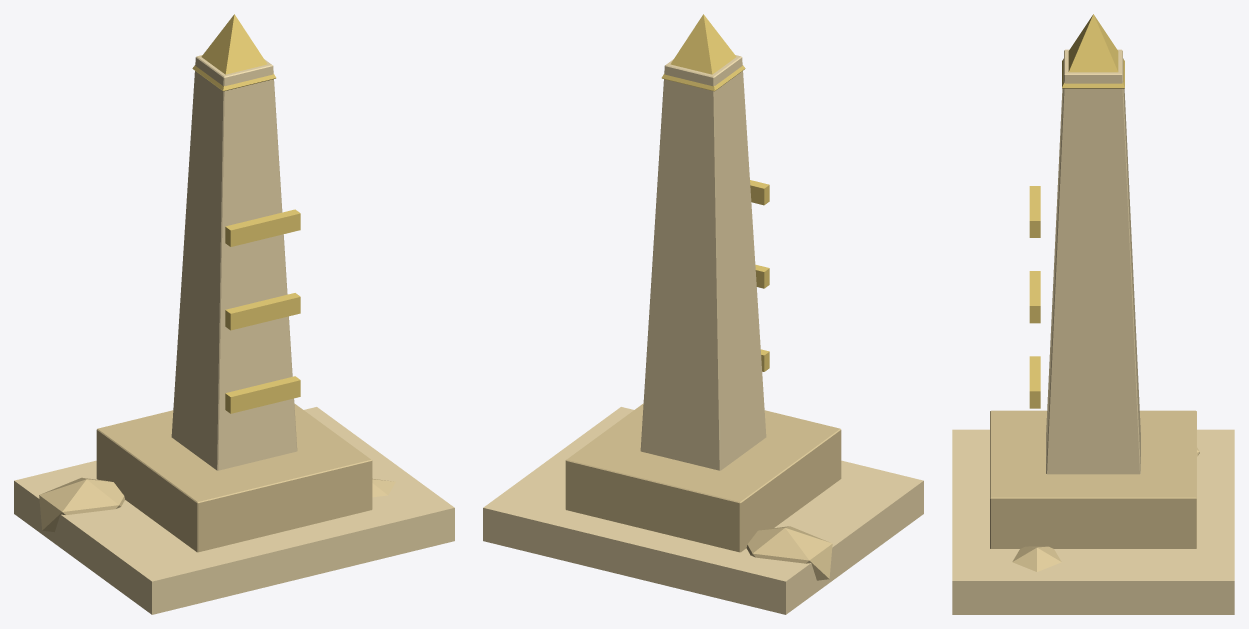
The model's file is desert_obelisk_landmark.glb.
3 views of the same model, side by side, from view 1: azimuth 30°, elevation 25°; view 2: azimuth 150°, elevation 25°; view 3: azimuth 270°, elevation 25° (orthographic). The views are drawn at different scales.
Visible parts, largest first — view 1: dune; view 2: dune; view 3: dune.
Part boxes in pixels (x1=…): dune: x1=14, y1=14, x2=454, y2=614; dune: x1=483, y1=14, x2=923, y2=614; dune: x1=952, y1=14, x2=1234, y2=614.
Bounding box in the file's own units: 1.95 × 3.1 × 1.5.
